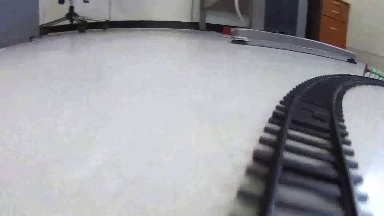tree: (360, 64, 384, 79)
